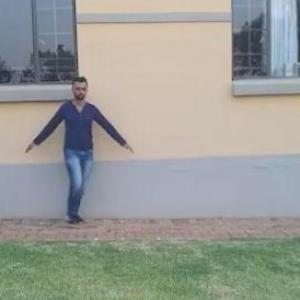land: (23, 77, 127, 236)
